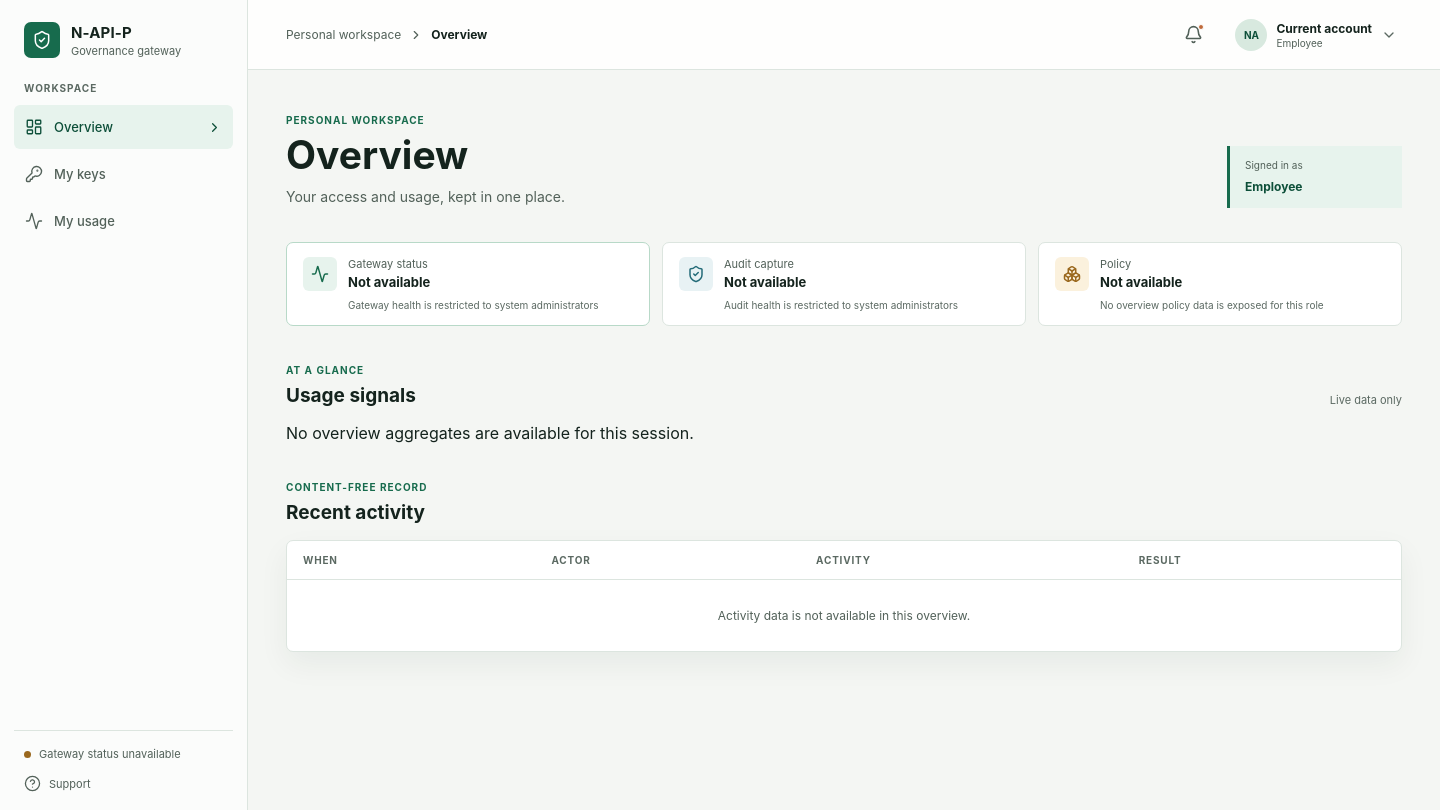
Scenario: App › loads only the current employee usage view
Click the link "My usage".
click(70, 221)  # box 25,212 -> 115,230
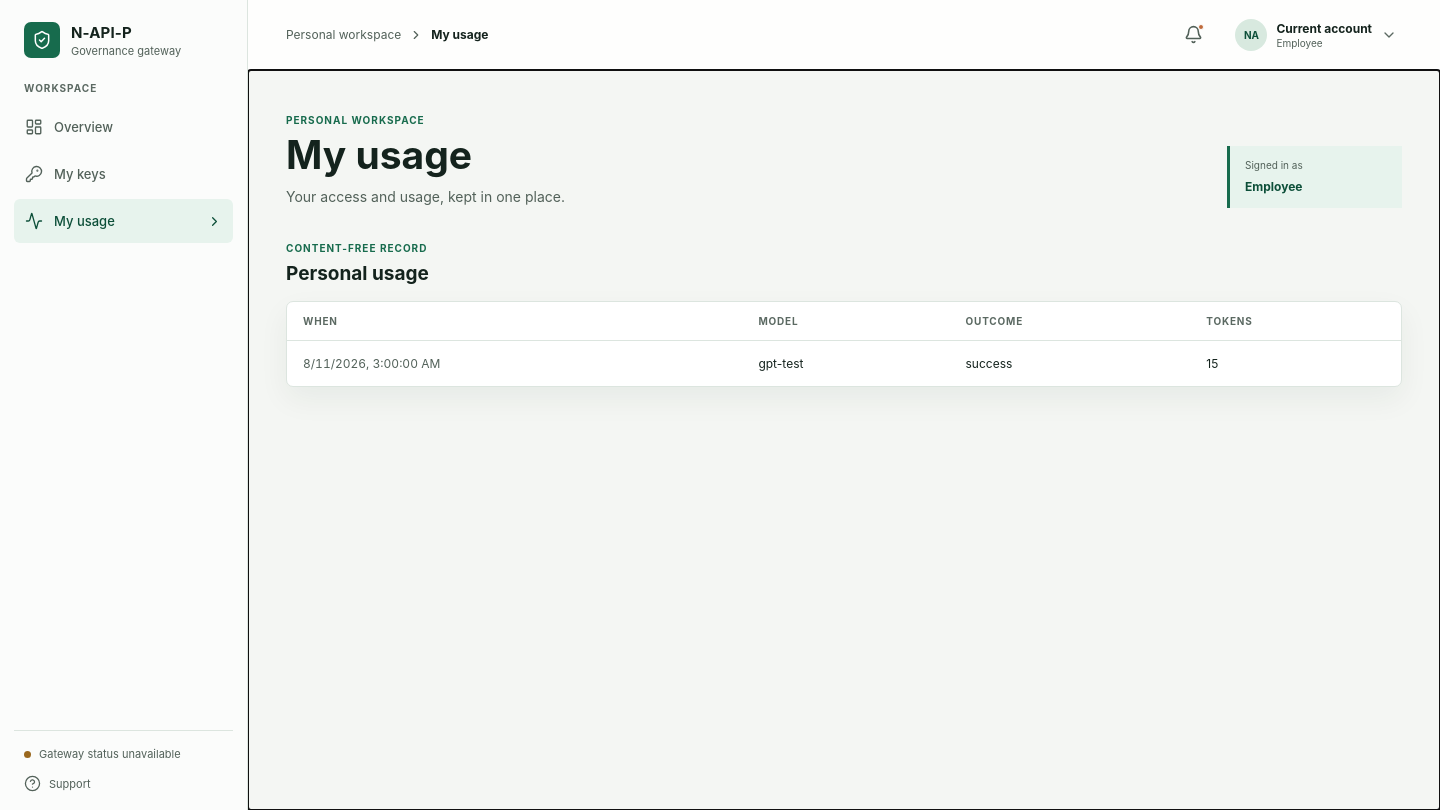
Check: the table named "Personal usage" shows "gpt-test", box 758,356 -> 803,371
